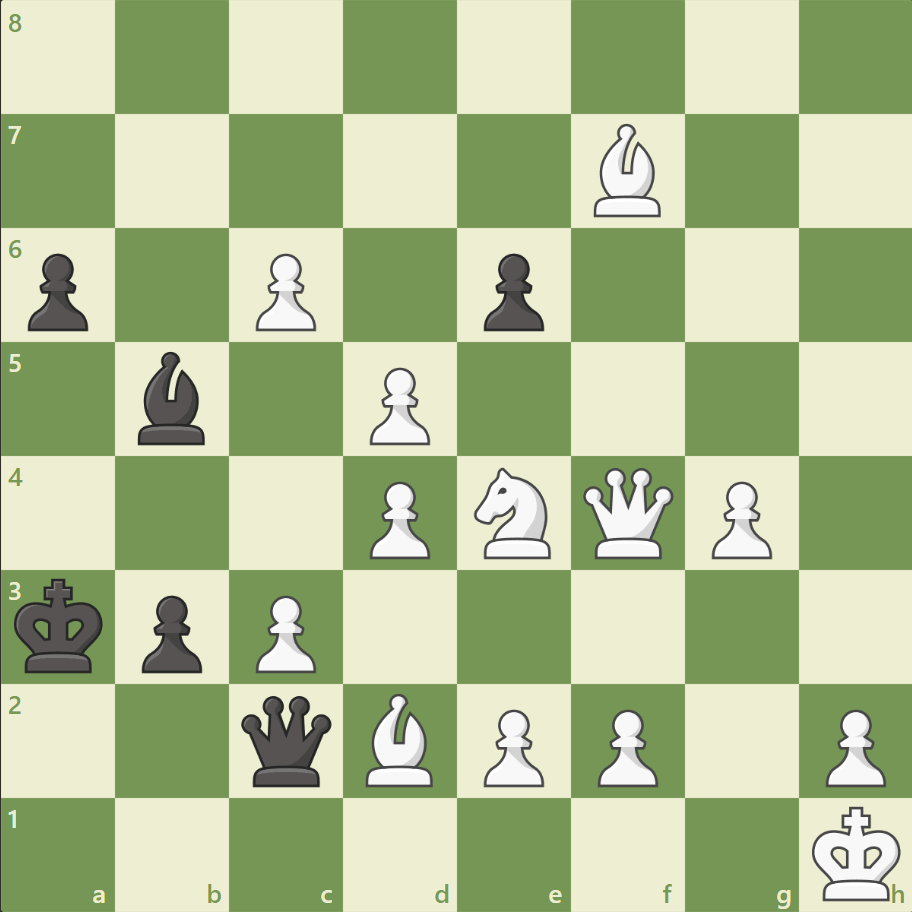B: (358, 687, 442, 790), (585, 120, 669, 222)
K: (806, 798, 906, 906)
N: (465, 461, 562, 564)
P: (247, 246, 322, 337), (701, 473, 776, 564), (247, 586, 322, 677), (474, 700, 549, 791), (361, 359, 435, 450), (361, 473, 435, 564), (588, 700, 662, 791), (815, 700, 889, 791)
Q: (578, 463, 677, 562)
b: (131, 347, 215, 449)
k: (11, 571, 111, 679)
p: (20, 246, 95, 337), (474, 246, 549, 337), (133, 586, 208, 677)
q: (237, 690, 336, 789)
